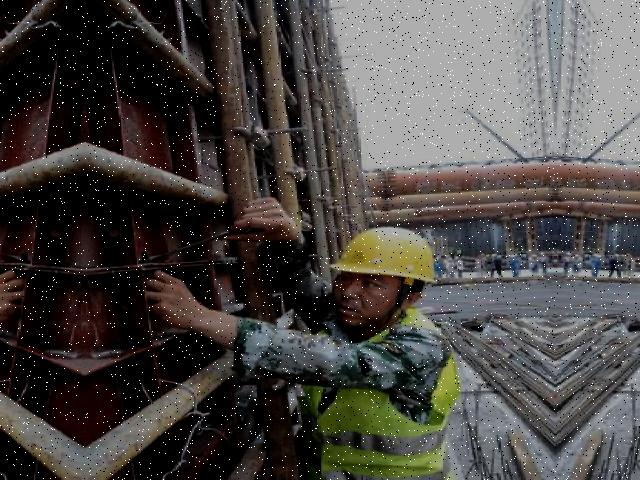Helmet: (324, 222, 439, 288)
